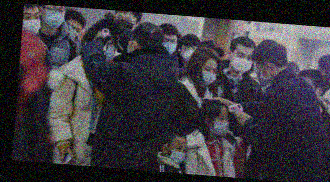with_mask: (93, 36, 117, 62), (230, 49, 254, 73), (41, 6, 66, 29), (22, 9, 42, 36), (196, 63, 218, 87), (209, 112, 230, 135), (167, 142, 188, 164), (254, 67, 273, 85), (182, 43, 198, 64), (161, 36, 177, 56)
